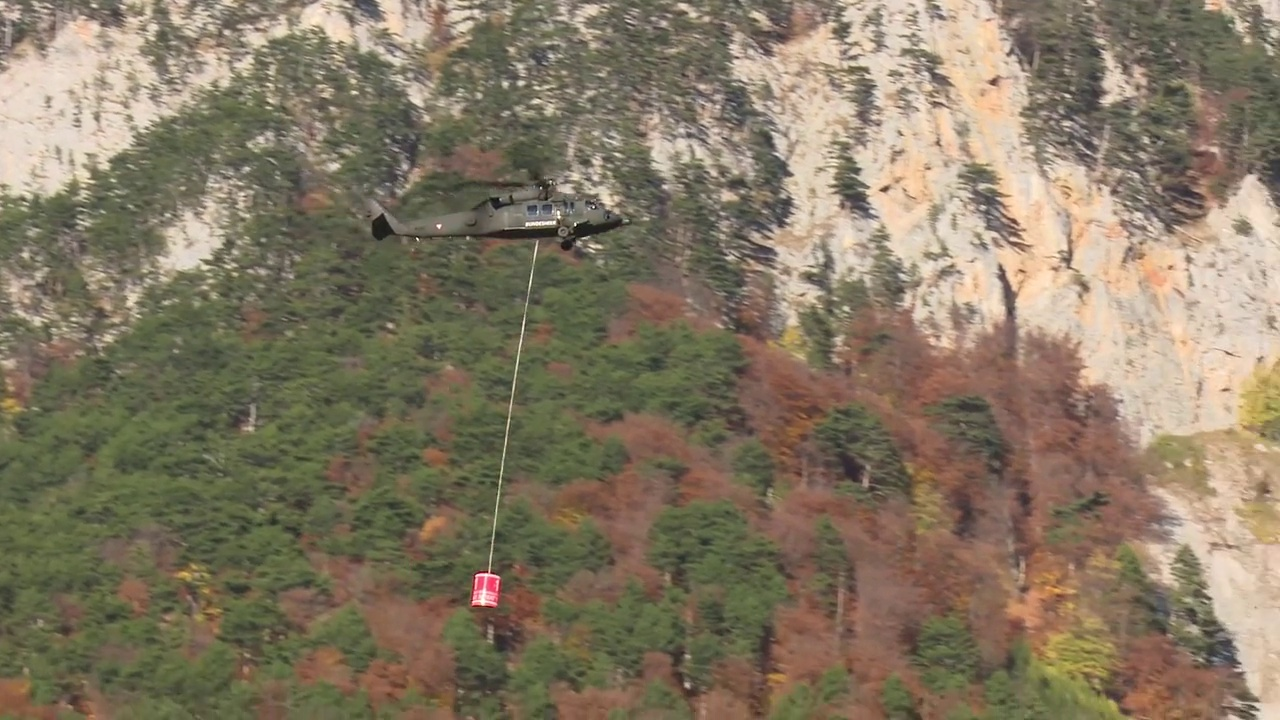heli: (368, 180, 629, 252)
